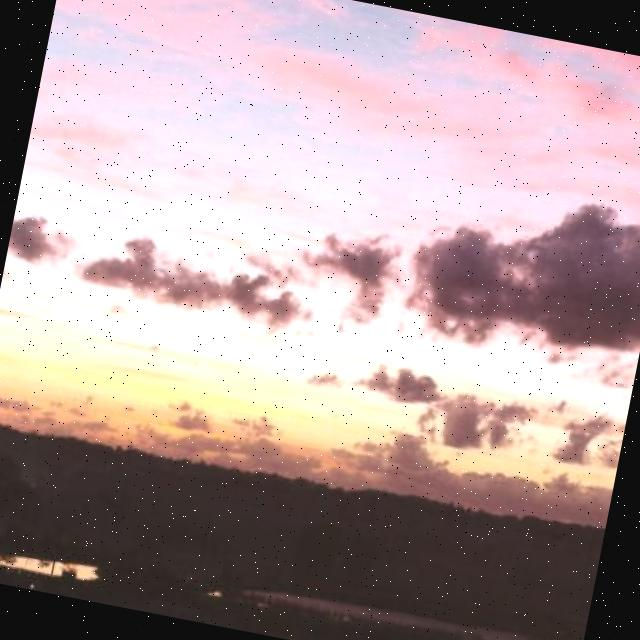Sc: (300, 138, 640, 396)
